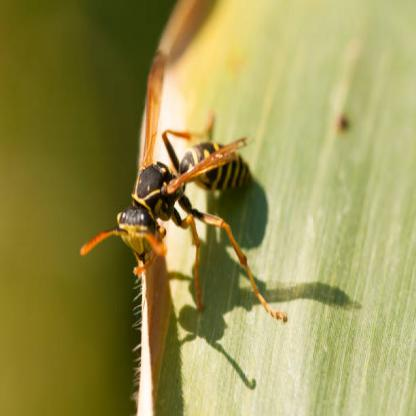sawfly: (78, 108, 288, 336)
